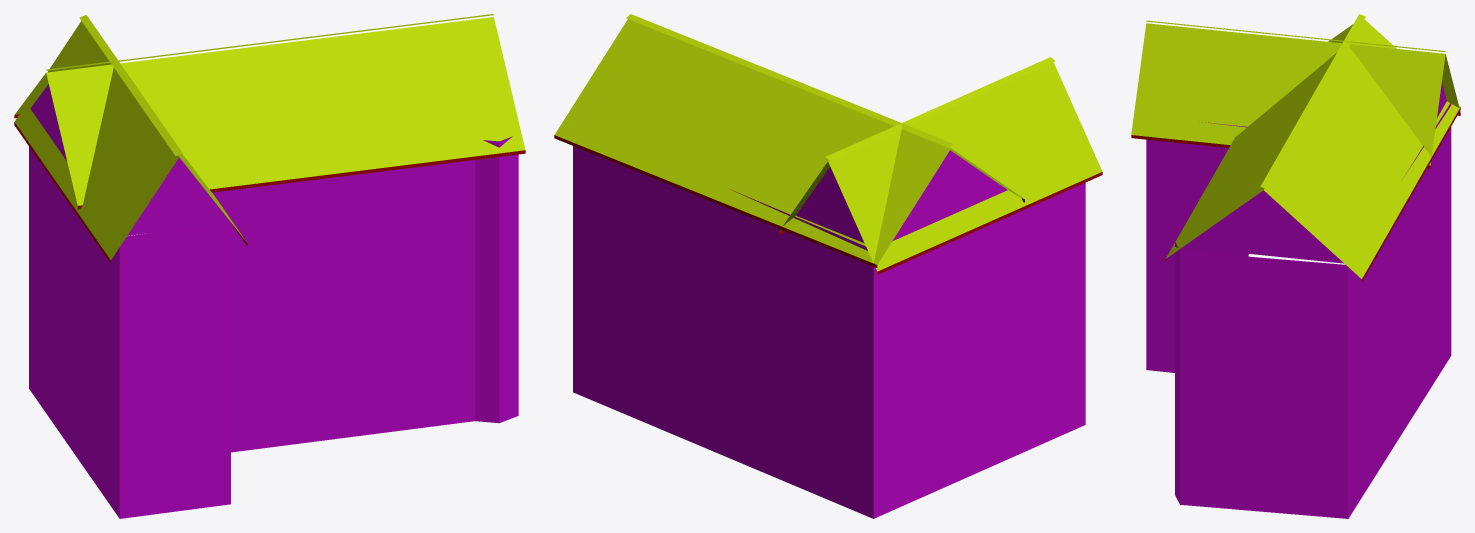
Rendered from bgj_297.glb.
The picture shows the model from 3 angles, left to right: view 1: azimuth 30°, elevation 25°; view 2: azimuth 150°, elevation 25°; view 3: azimuth 270°, elevation 25°; orthographic projection. The views are drawn at different scales.
Parts seen in each view (by area): view 1: bgj_297; view 2: bgj_297; view 3: bgj_297.
Part boxes in pixels (<box>): bgj_297: <box>14,14,525,518</box>; bgj_297: <box>554,14,1102,518</box>; bgj_297: <box>1131,14,1460,518</box>.
Bounding box in the file's own units: 16.79 × 12.6 × 11.5.
